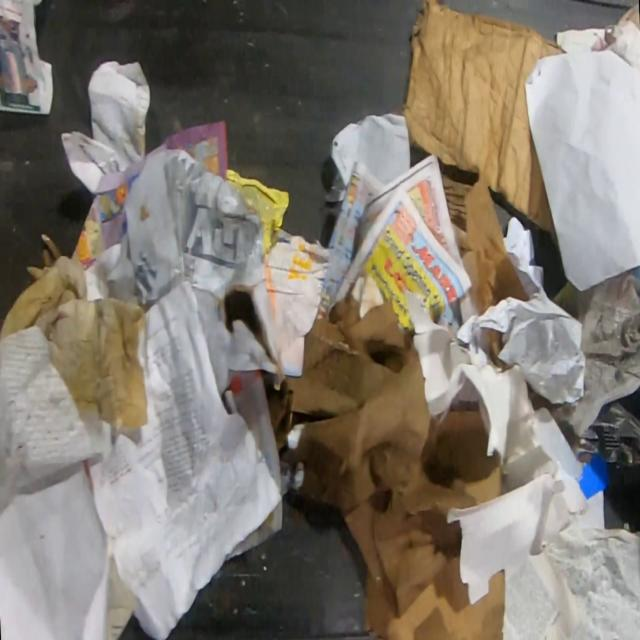cardboard: (265, 292, 506, 640), (402, 0, 567, 317)
